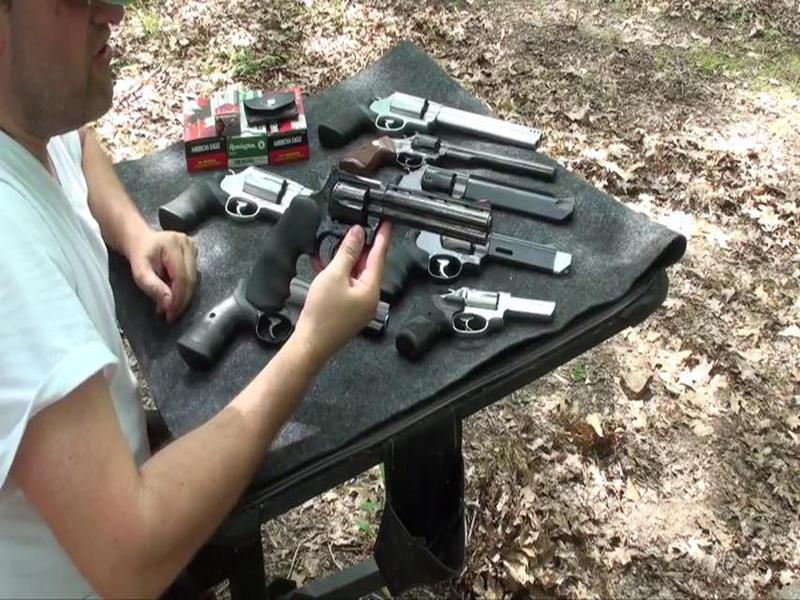Revolver: (253, 149, 505, 325)
